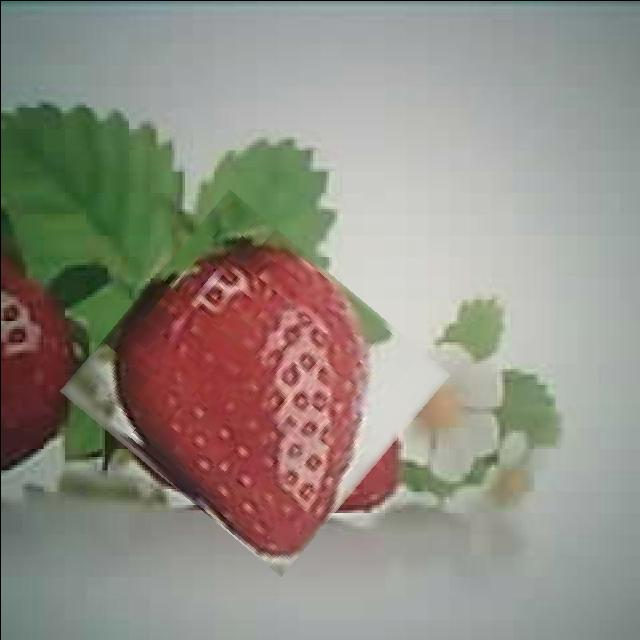strawberry: (84, 219, 424, 545)
